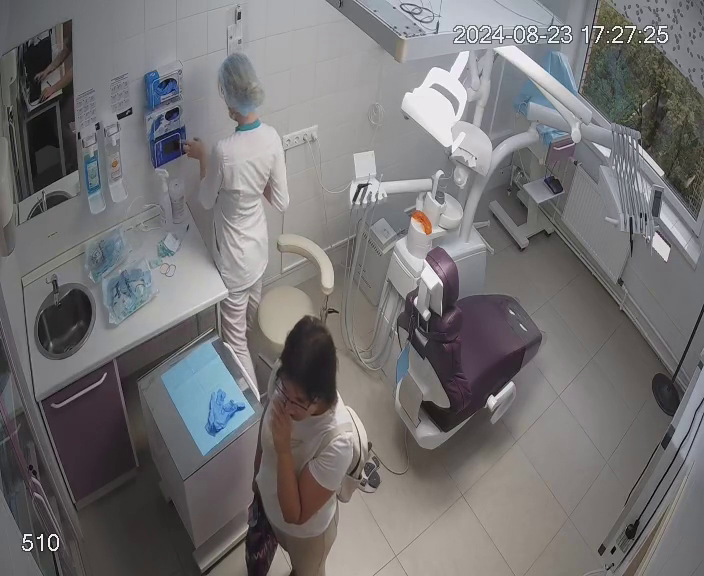Empty: (379, 241, 551, 453)
